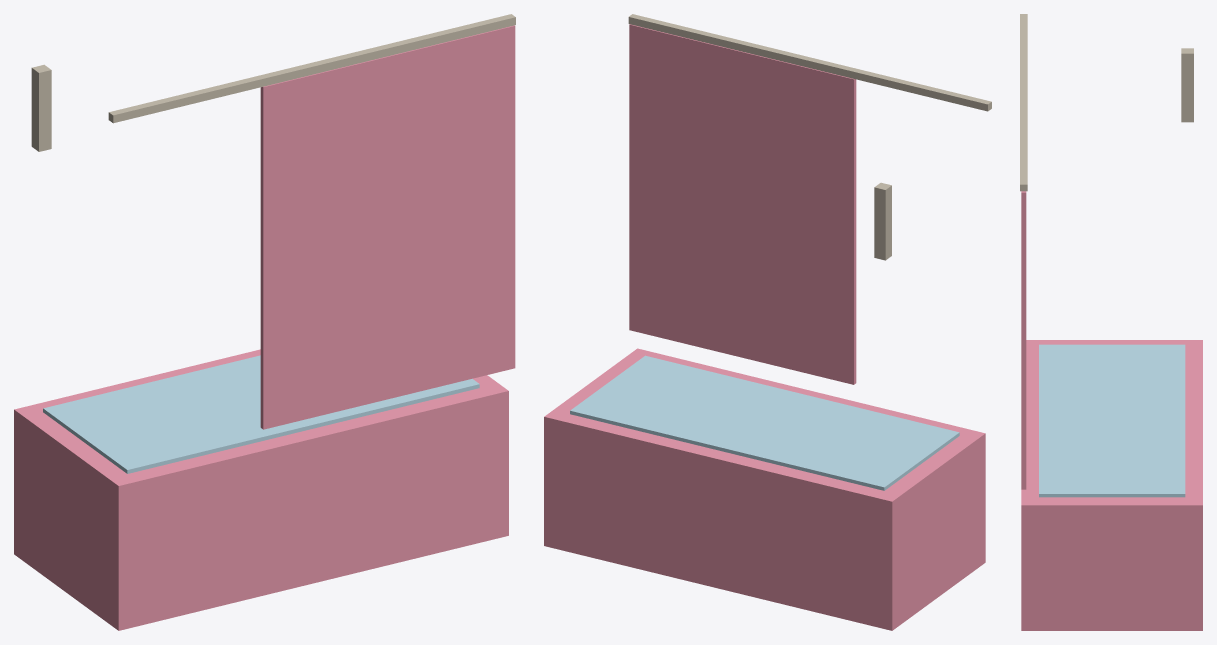
File: tub.glb
The picture shows the model from 3 angles, left to right: view 1: azimuth 30°, elevation 25°; view 2: azimuth 150°, elevation 25°; view 3: azimuth 270°, elevation 25°; orthographic projection. The views are drawn at different scales.
Visible parts, largest first — view 1: Box5, Box1, Box2, Box4, Box3; view 2: Box5, Box1, Box2, Box4, Box3; view 3: Box1, Box2, Box5, Box4, Box3.
Boxes of the visible parts, box(x1,y1,x2,y2) form: Box5: box(260, 25, 515, 429); Box1: box(14, 349, 508, 630); Box2: box(43, 355, 479, 473); Box4: box(108, 14, 515, 123); Box3: box(31, 64, 51, 151); Box5: box(629, 24, 856, 384); Box1: box(544, 348, 985, 630); Box2: box(570, 355, 959, 490); Box4: box(628, 14, 991, 111); Box3: box(874, 182, 891, 260); Box1: box(1021, 340, 1202, 630); Box2: box(1039, 344, 1185, 497); Box5: box(1021, 191, 1026, 489); Box4: box(1020, 14, 1027, 191); Box3: box(1181, 48, 1193, 122).
Bounding box in the file's own units: 1.6 × 1.97 × 0.725.
